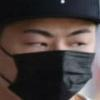mask: (2, 50, 100, 100)
